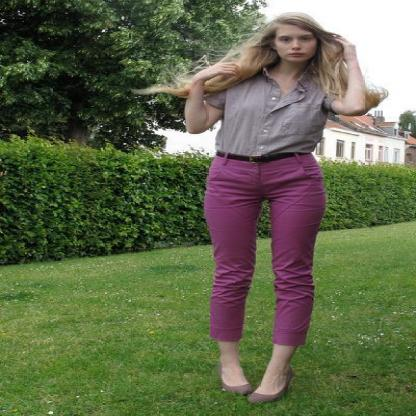pants: (202, 155, 326, 352)
shirt: (200, 75, 352, 157)
shoe: (224, 380, 261, 402)
